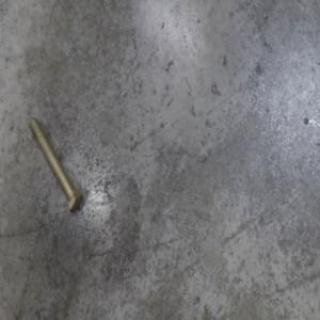Bolttrack_idkeyframe: (27, 111, 82, 215)
